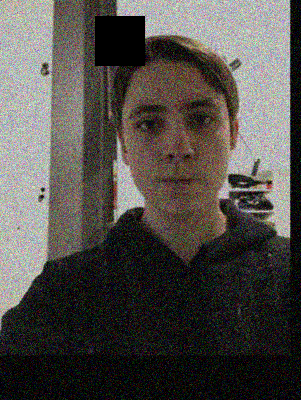without_mask: (124, 90, 230, 218)
